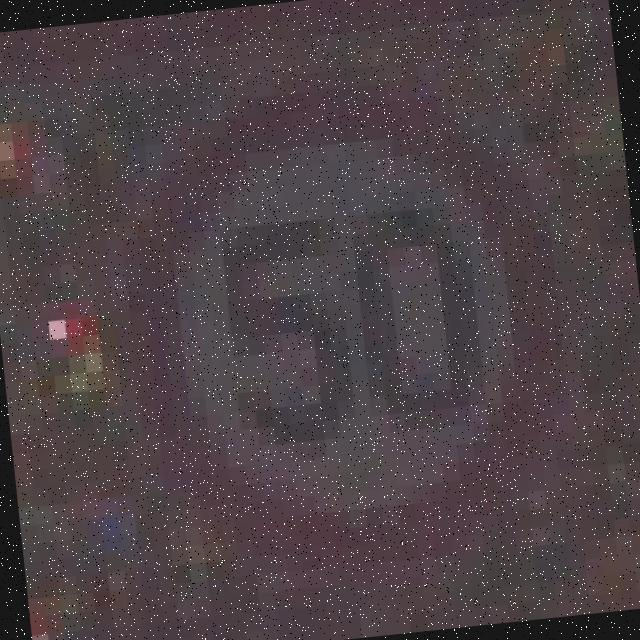Ograniczenie predkosci do 50: (116, 62, 572, 576)
